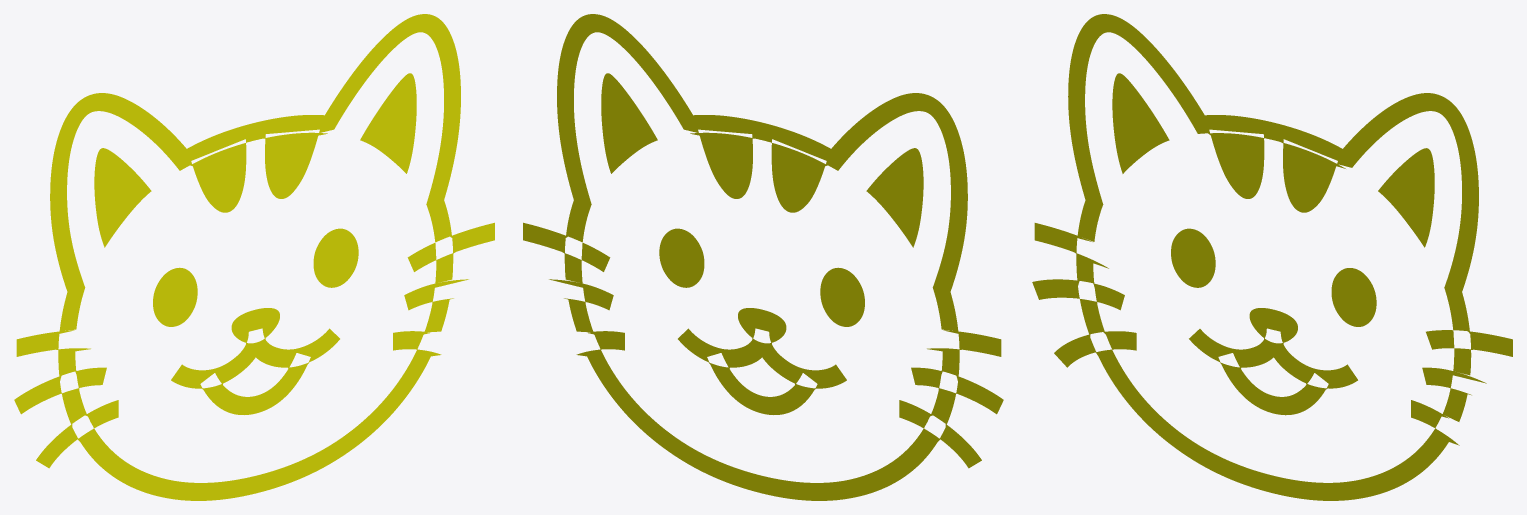
Rendered from cat.glb.
3 renders of one model, left to right at view 1: azimuth 30°, elevation 25°; view 2: azimuth 150°, elevation 25°; view 3: azimuth 330°, elevation 25°, orthographic.
Parts seen in each view (by area): view 1: Text.761; view 2: Text.761; view 3: Text.761.
Part boxes in pixels (x1,y1,x2,y2): Text.761: [14, 14, 494, 500]; Text.761: [523, 14, 1003, 500]; Text.761: [1032, 14, 1512, 500].
Size of the model in its own units: 1.11 by 0.967 by 3.42e-06.
